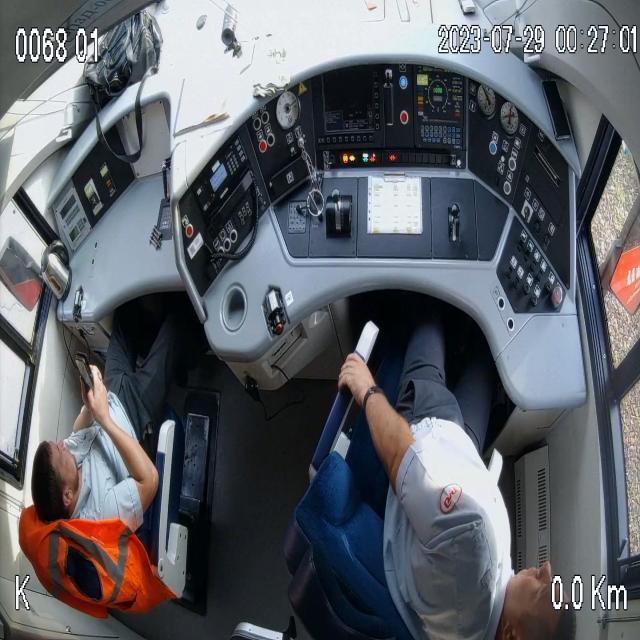smartphone: (72, 347, 108, 427)
